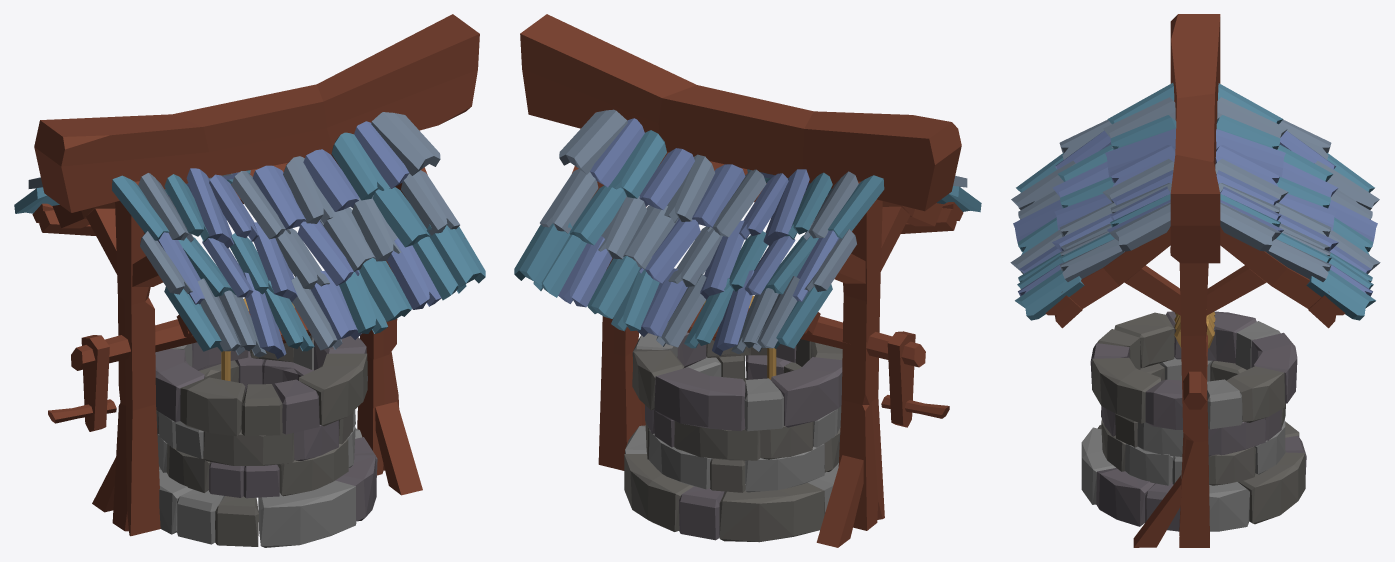
The model's file is lowpoly_well.glb.
3 renders of one model, left to right at view 1: azimuth 30°, elevation 25°; view 2: azimuth 150°, elevation 25°; view 3: azimuth 270°, elevation 25°, orthographic. The views are drawn at different scales.
Visible parts, largest first — view 1: Cube.072; view 2: Cube.072; view 3: Cube.072.
Boxes of the visible parts, box(x1,y1,x2,y2) form: Cube.072: box(14, 14, 485, 547); Cube.072: box(514, 14, 981, 547); Cube.072: box(1010, 14, 1380, 547).
Size of the model in its own units: 3.8 by 3.67 by 3.17.
